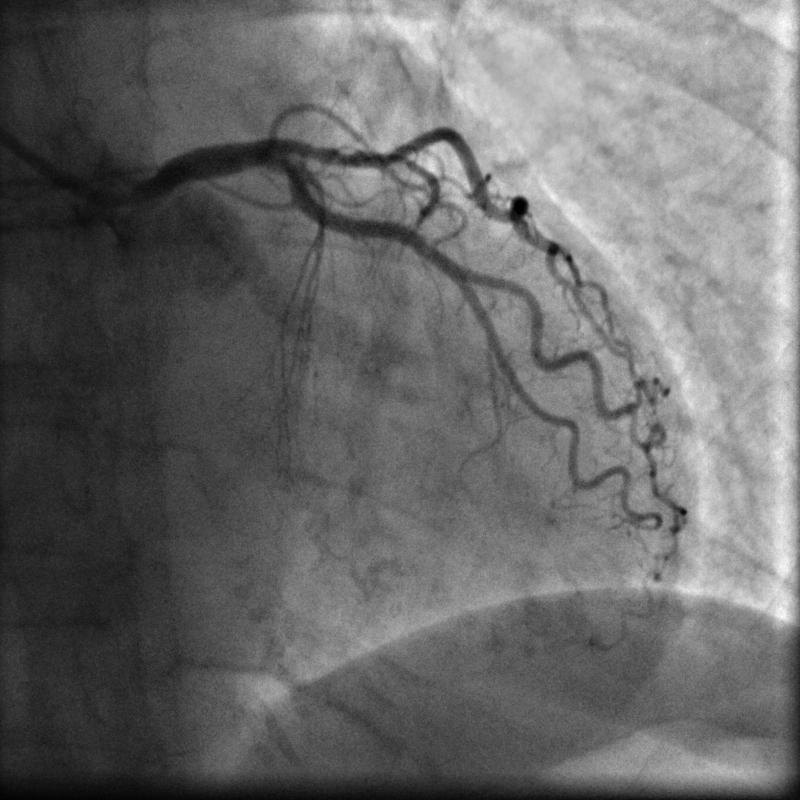Stenosis: (333, 146, 360, 165)
